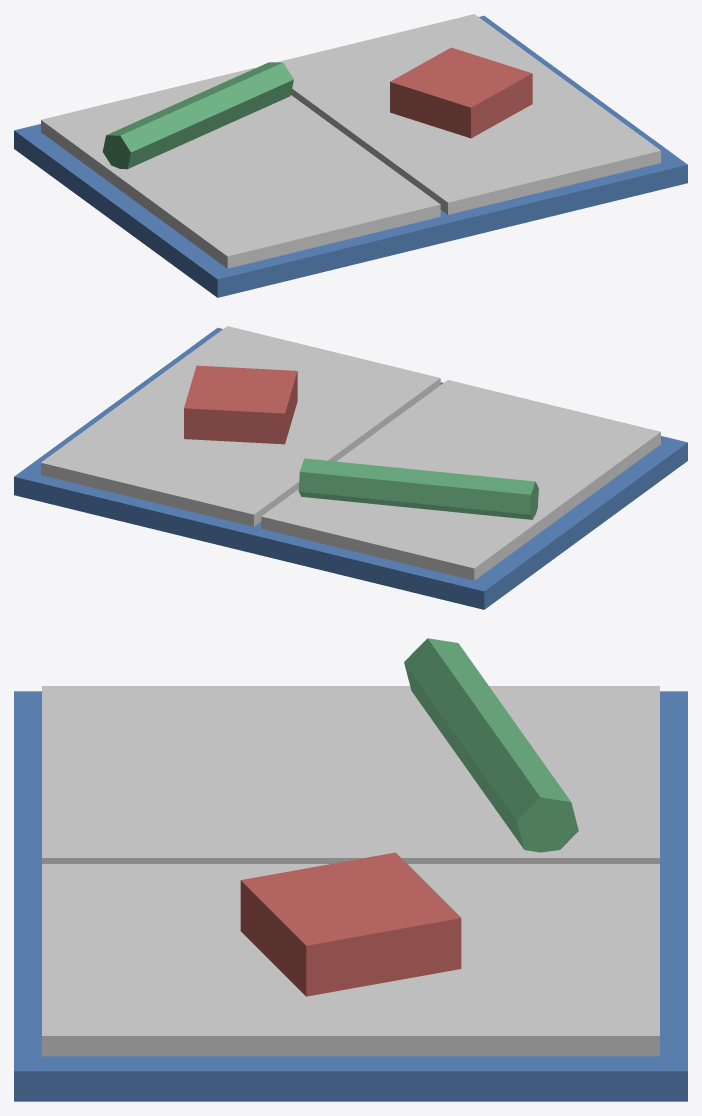
File: kids_livro_colorir.glb
3 renders of one model, top to bottom at view 1: azimuth 30°, elevation 25°; view 2: azimuth 150°, elevation 25°; view 3: azimuth 270°, elevation 25°, orthographic. The views are drawn at different scales.
Visible parts, largest first — view 1: KIDS_LIVRO_COLORIR_v01; view 2: KIDS_LIVRO_COLORIR_v01; view 3: KIDS_LIVRO_COLORIR_v01.
Part boxes in pixels (x1,y1,x2,y2): KIDS_LIVRO_COLORIR_v01: [14, 14, 687, 297]; KIDS_LIVRO_COLORIR_v01: [14, 326, 687, 609]; KIDS_LIVRO_COLORIR_v01: [14, 638, 687, 1101].
Bounding box in the file's own units: 0.32 × 0.0417 × 0.24.
